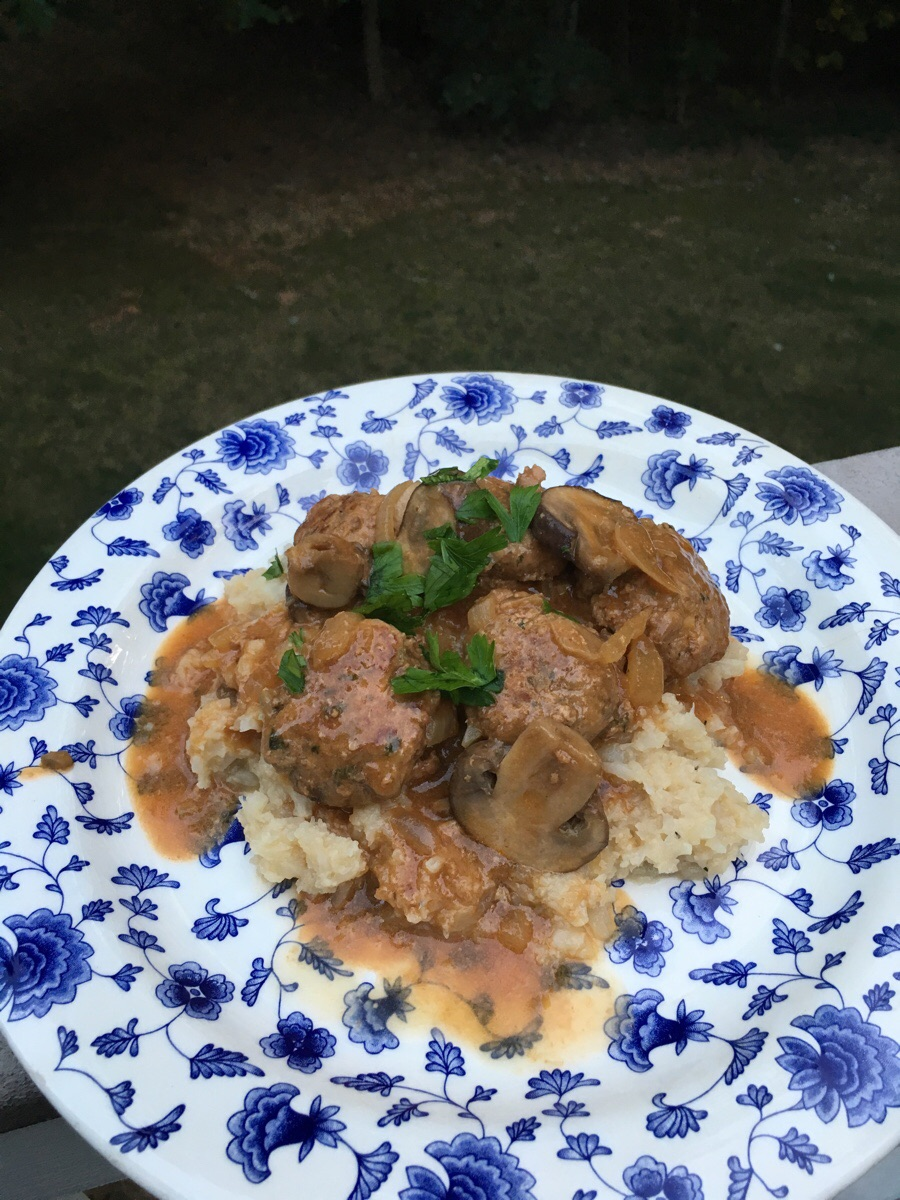meatballs: (271, 616, 464, 809), (449, 583, 631, 756), (597, 541, 735, 674)
plain rice: (608, 718, 764, 876)
